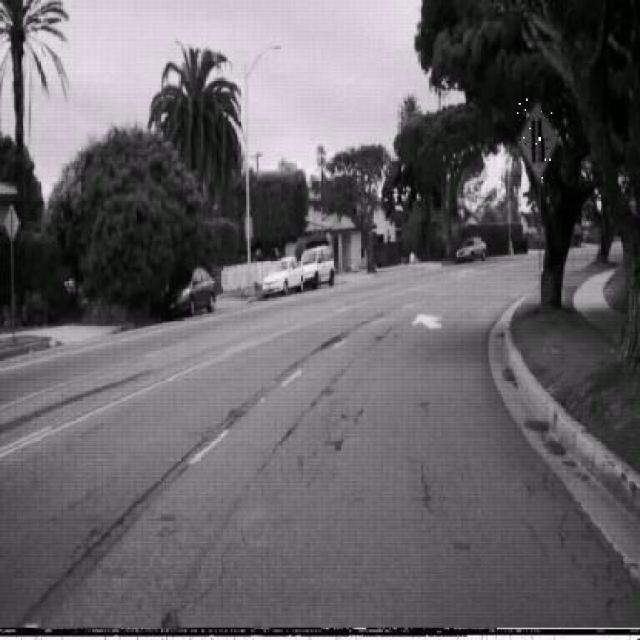laneEnds: (517, 98, 560, 180)
